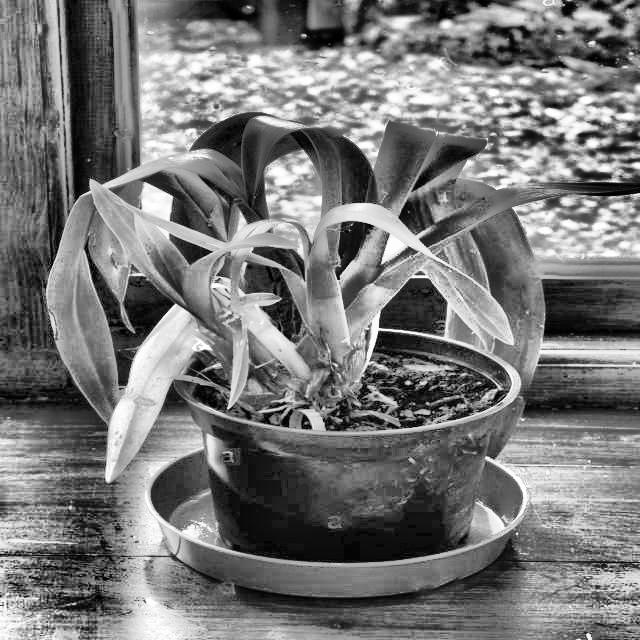plants: (61, 119, 568, 599), (106, 272, 205, 494)
